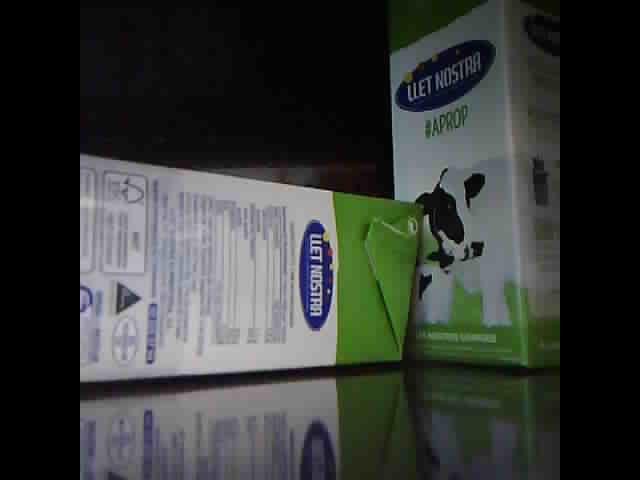leche: (82, 148, 423, 387), (391, 3, 560, 373)
